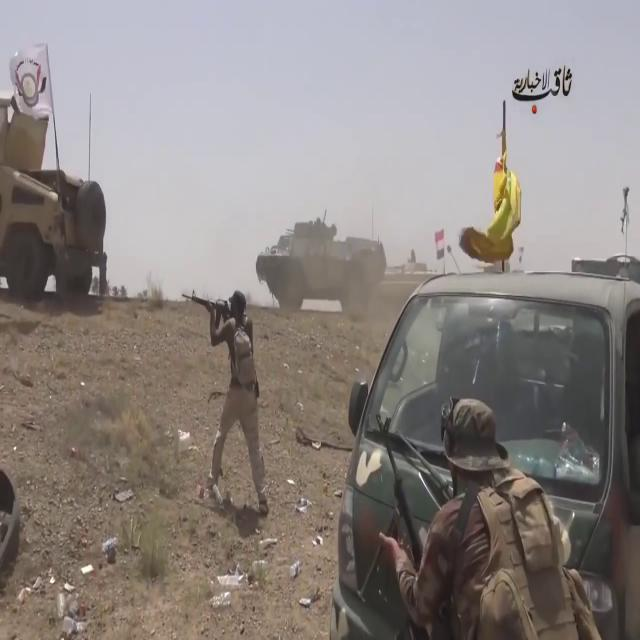long weapon: (178, 290, 228, 330)
